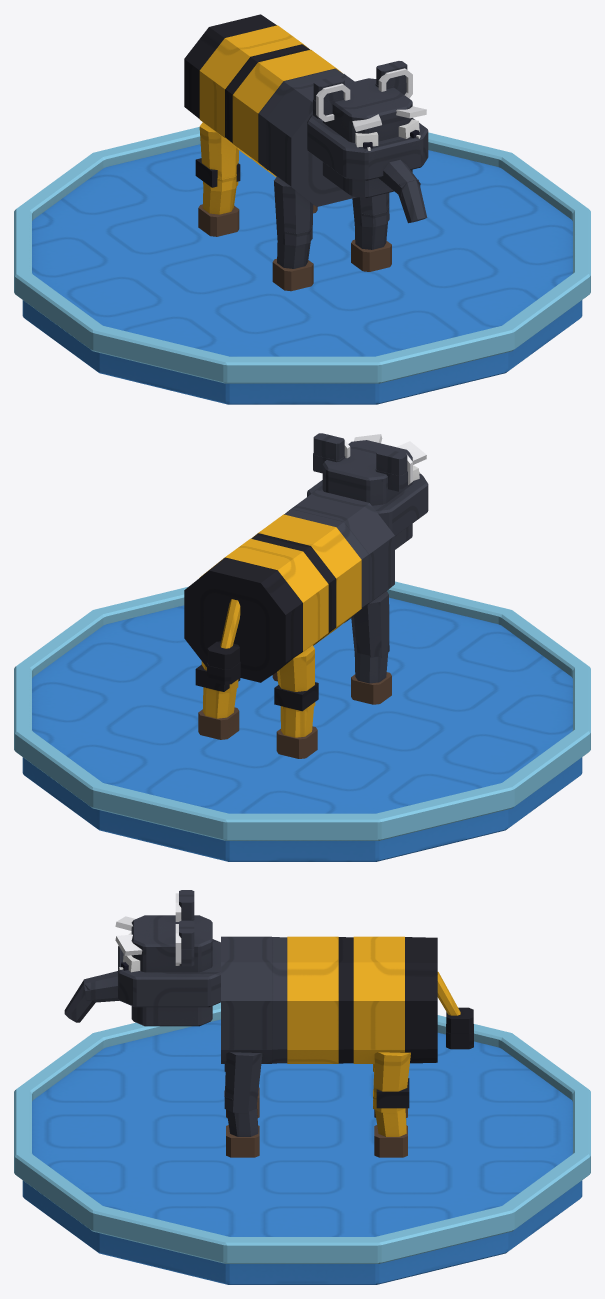
Rendered from ZebraTapir.fbx.
3 renders of one model, top to bottom at view 1: azimuth 30°, elevation 25°; view 2: azimuth 150°, elevation 25°; view 3: azimuth 270°, elevation 25°, orthographic.
Visible parts, largest first — view 1: Art_ZebraTapir_Stand, Art_ZebraTapir_Body, Art_ZebraTapir_Head; view 2: Art_ZebraTapir_Stand, Art_ZebraTapir_Body, Art_ZebraTapir_Head, Art_ZebraTapir_Tail; view 3: Art_ZebraTapir_Stand, Art_ZebraTapir_Body, Art_ZebraTapir_Head, Art_ZebraTapir_Tail.
Boxes of the visible parts, x1,y1,x2,y2 form: Art_ZebraTapir_Stand: (14,127,590,404); Art_ZebraTapir_Body: (184,14,391,291); Art_ZebraTapir_Head: (307,61,428,223); Art_ZebraTapir_Stand: (14,581,590,861); Art_ZebraTapir_Body: (184,490,394,758); Art_ZebraTapir_Head: (307,433,428,549); Art_ZebraTapir_Tail: (207,599,240,684); Art_ZebraTapir_Stand: (14,1002,590,1284); Art_ZebraTapir_Body: (221,936,437,1157); Art_ZebraTapir_Head: (64,890,220,1026); Art_ZebraTapir_Tail: (437,972,473,1049).
Size of the model in its own units: 3.19 by 1.56 by 3.19.
